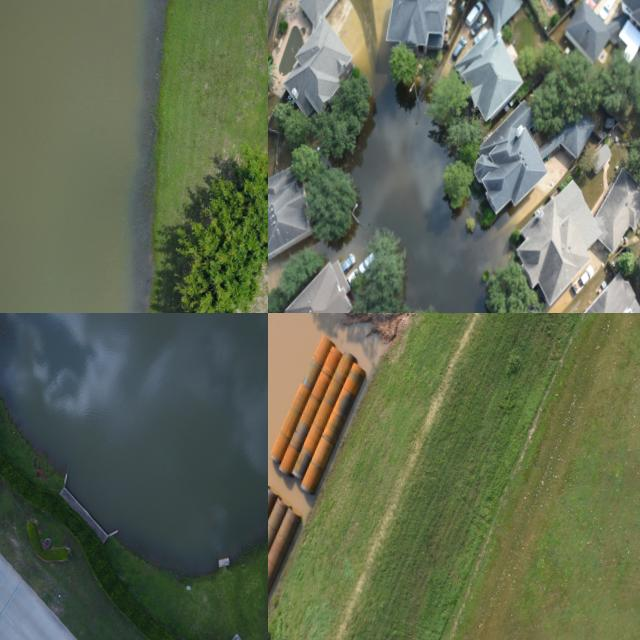fire: (287, 0, 553, 313), (0, 313, 268, 574), (0, 0, 167, 313)
